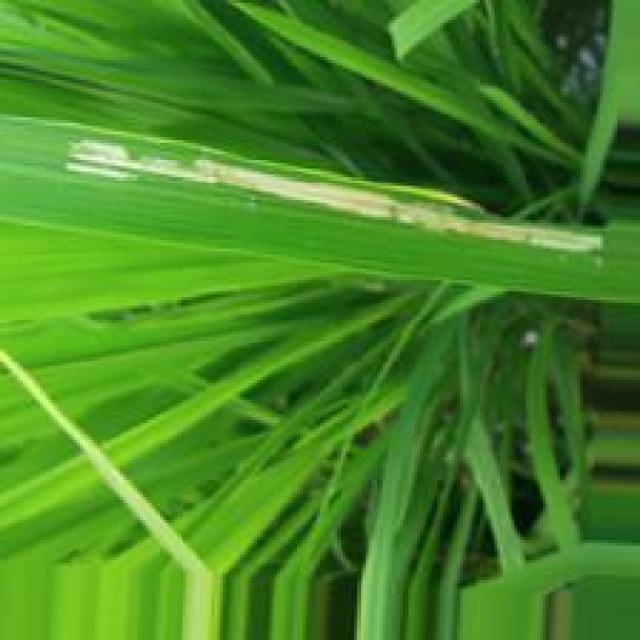Rice_Hispa: (62, 142, 604, 253)
